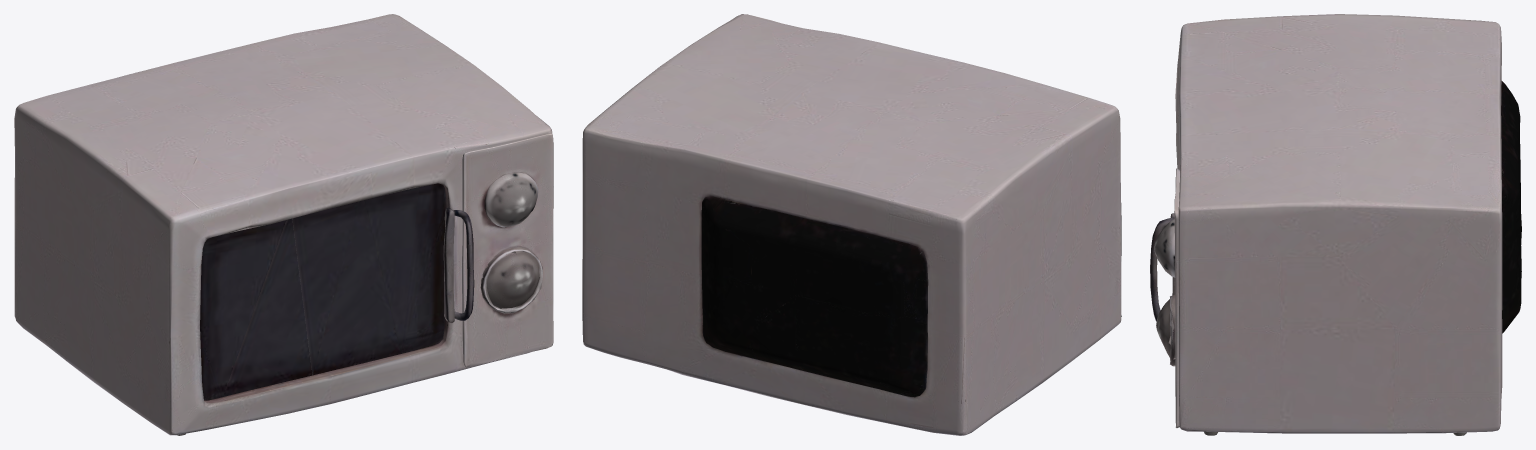
The model's file is counter_microwave.glb.
The picture shows the model from 3 angles, left to right: view 1: azimuth 30°, elevation 25°; view 2: azimuth 150°, elevation 25°; view 3: azimuth 270°, elevation 25°; orthographic projection.
Visible parts, largest first — view 1: geometry_0; view 2: geometry_0; view 3: geometry_0.
Part boxes in pixels (x1,y1,x2,y2): geometry_0: [14, 14, 553, 435]; geometry_0: [582, 14, 1121, 435]; geometry_0: [1150, 14, 1521, 435].
Size of the model in its own units: 1 by 0.6074 by 0.8326.
Materials: 1 (1 with a texture image).
